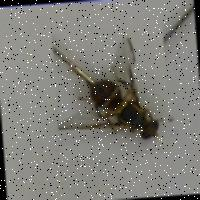Oriental-fruit-fly: (51, 26, 171, 160)
